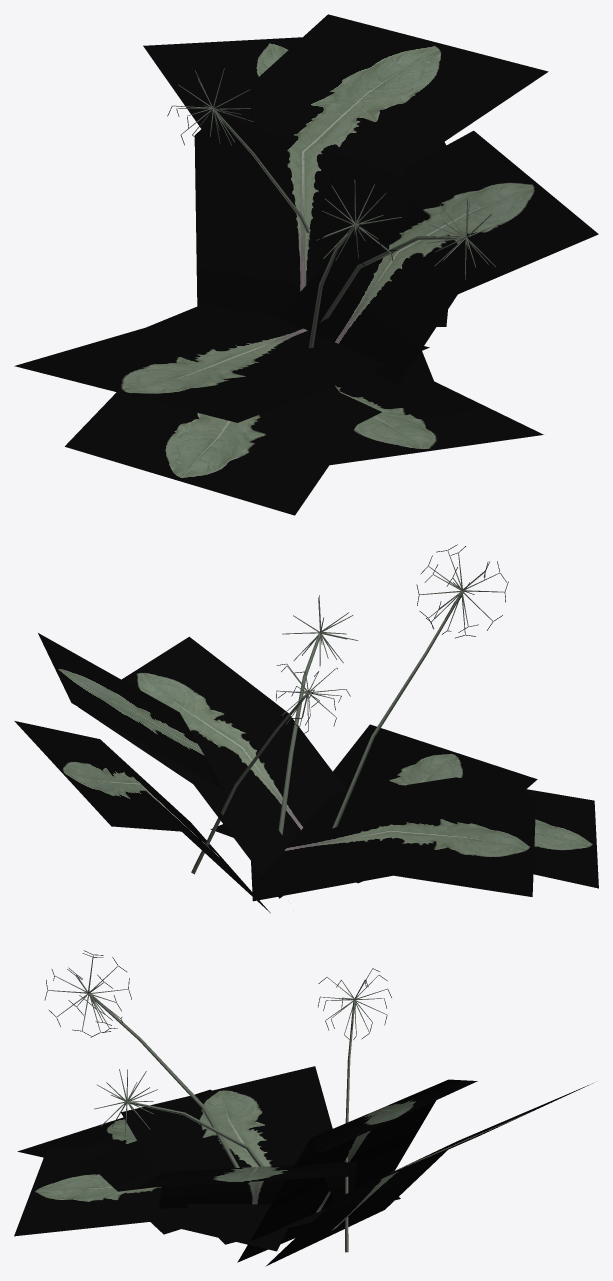
File: Dandelion.fbx
The picture shows the model from 3 angles, top to bottom: view 1: azimuth 30°, elevation 25°; view 2: azimuth 150°, elevation 25°; view 3: azimuth 270°, elevation 25°; orthographic projection. The views are drawn at different scales.
Visible parts, largest first — view 1: polySurface2, dandelion1Main; view 2: polySurface2, dandelion1Main, dandelion1Flower; view 3: polySurface2, dandelion1Main, dandelion1Flower.
Boxes of the visible parts, box(x1,y1,x2,y2) form: polySurface2: box(14, 14, 598, 515); dandelion1Main: box(172, 68, 495, 348); polySurface2: box(14, 633, 598, 913); dandelion1Main: box(191, 550, 504, 874); dandelion1Flower: box(276, 544, 508, 734); polySurface2: box(14, 1066, 594, 1266); dandelion1Main: box(47, 954, 387, 1252); dandelion1Flower: box(44, 950, 391, 1039).
Size of the model in its own units: 3.27 by 1.67 by 3.52.
3 materials, 1 textured.
